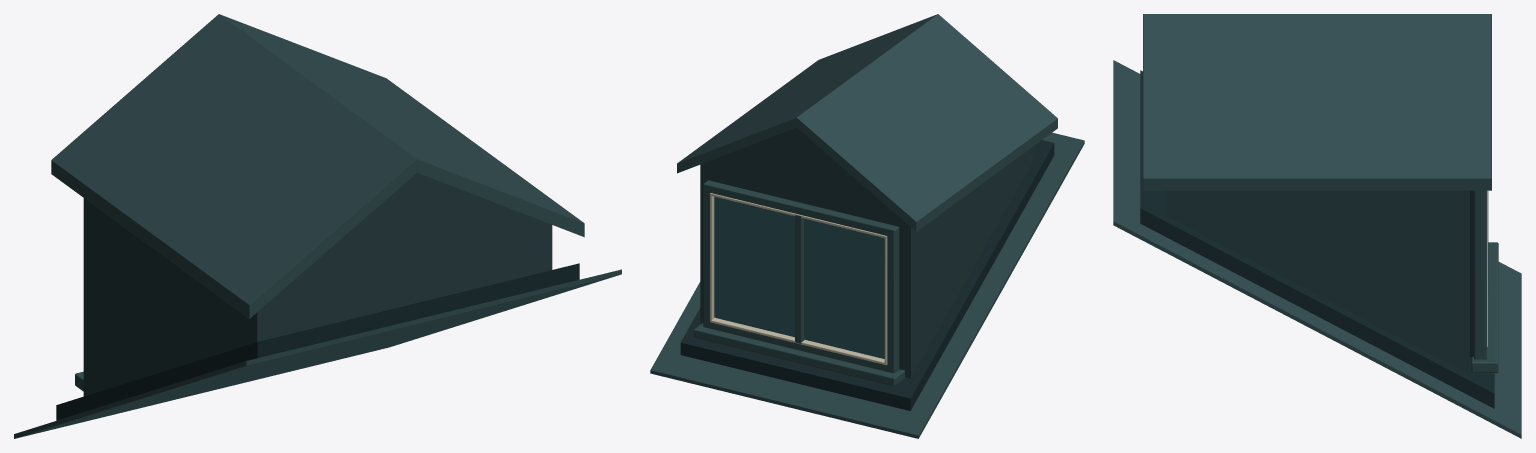
The model's file is city_roof_details_05.glb.
The picture shows the model from 3 angles, left to right: view 1: azimuth 30°, elevation 25°; view 2: azimuth 150°, elevation 25°; view 3: azimuth 270°, elevation 25°; orthographic projection. The views are drawn at different scales.
Visible parts, largest first — view 1: CityRoofDetails05_Mesh; view 2: CityRoofDetails05_Mesh; view 3: CityRoofDetails05_Mesh.
Part boxes in pixels (x1=…): CityRoofDetails05_Mesh: x1=14, y1=14, x2=621, y2=438; CityRoofDetails05_Mesh: x1=650, y1=14, x2=1084, y2=438; CityRoofDetails05_Mesh: x1=1113, y1=14, x2=1521, y2=438.
Size of the model in its own units: 2.8 by 2.79 by 3.
